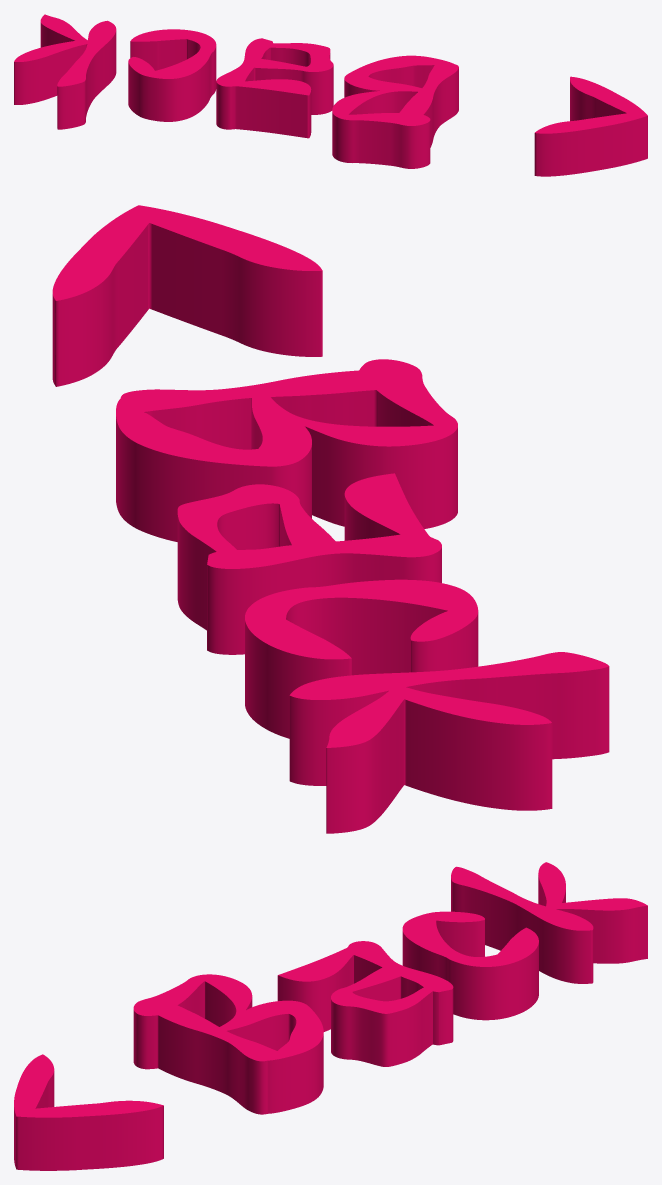
Rendered from text_back_credit_tree.glb.
The picture shows the model from 3 angles, top to bottom: view 1: azimuth 30°, elevation 25°; view 2: azimuth 150°, elevation 25°; view 3: azimuth 270°, elevation 25°; orthographic projection. The views are drawn at different scales.
Visible parts, largest first — view 1: Text.011; view 2: Text.011; view 3: Text.011.
Boxes of the visible parts, box(x1,y1,x2,y2) form: Text.011: box(14, 14, 647, 176); Text.011: box(52, 205, 609, 833); Text.011: box(14, 862, 647, 1170).
Bounding box in the file's own units: 0.7544 × 0.0733 × 0.7909.
